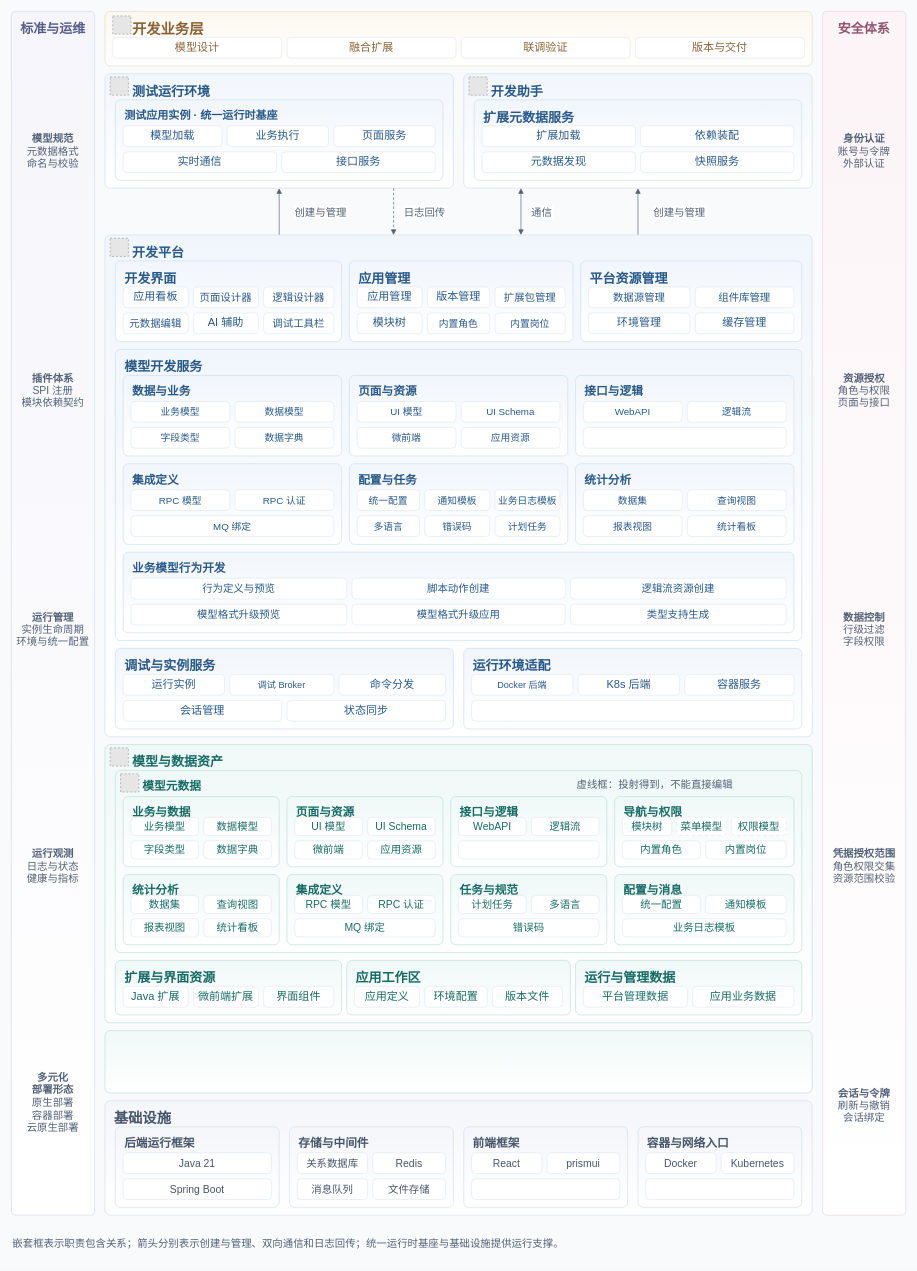
Some shapes in this 917 by 1271 pixel diagram are drawn without their labels. Grey dashed boxes stand in for pictures. Each missing label, with the centre of its shape:
APISIX 网关: (x=719, y=1189)
qiankun: (x=545, y=1189)
审批模型: (x=528, y=849)
审批流: (x=684, y=437)
统一运行时基座: (x=458, y=1061)
网关适配: (x=632, y=710)
